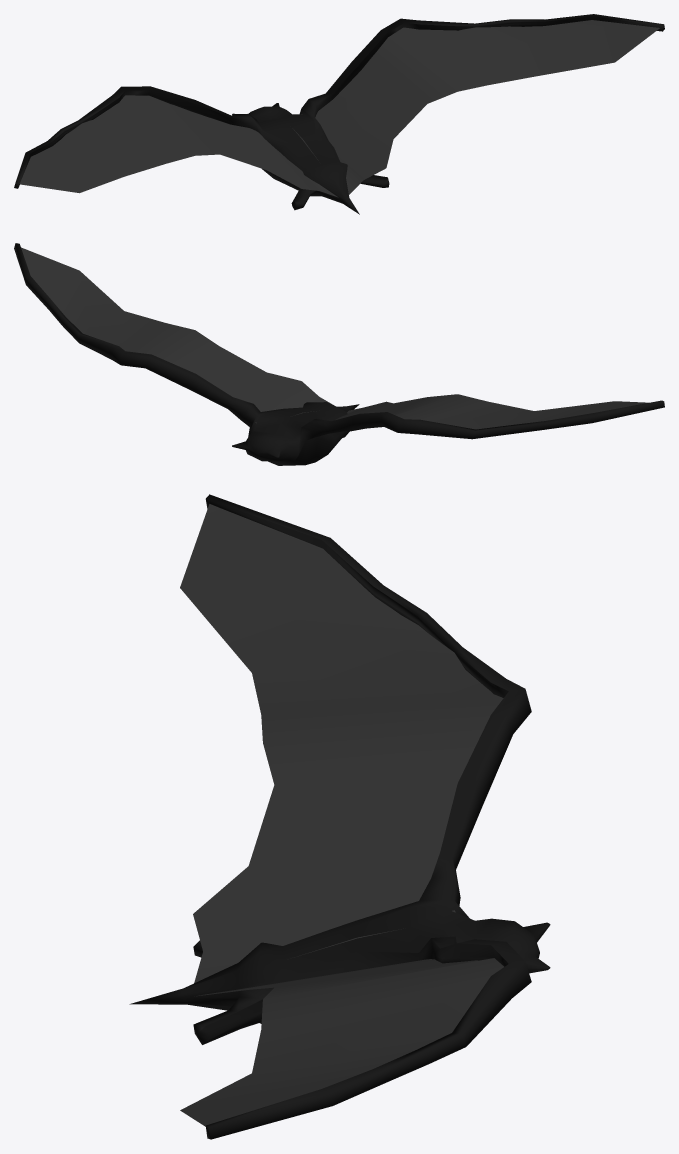
File: bat.fbx
The picture shows the model from 3 angles, top to bottom: view 1: azimuth 30°, elevation 25°; view 2: azimuth 150°, elevation 25°; view 3: azimuth 270°, elevation 25°; orthographic projection. The views are drawn at different scales.
Visible parts, largest first — view 1: bat; view 2: bat; view 3: bat.
Boxes of the visible parts, x1,y1,x2,y2 form: bat: (14, 14, 664, 214); bat: (14, 243, 664, 465); bat: (129, 494, 550, 1139).
Size of the model in its own units: 396 by 60.55 by 111.
